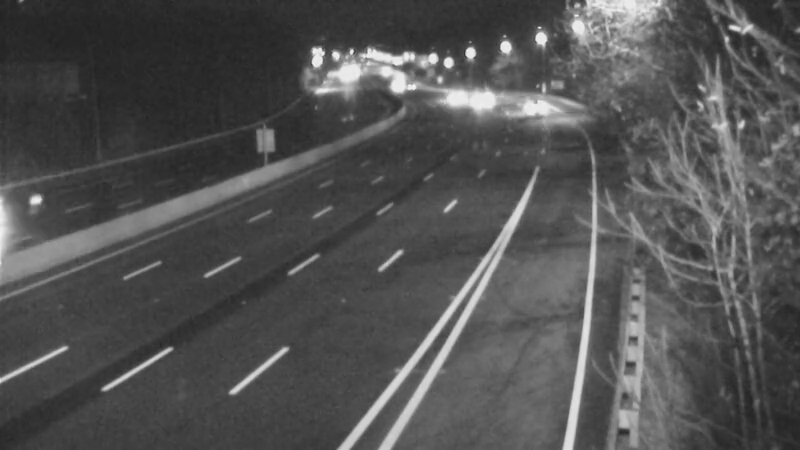vehicle: (1, 167, 68, 247), (385, 63, 435, 113), (368, 60, 418, 110), (435, 76, 485, 126), (455, 78, 505, 128), (508, 84, 558, 134)
